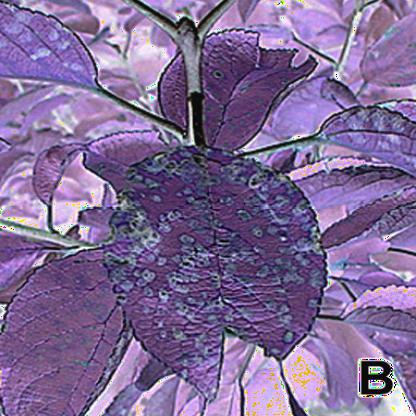apple scab leaf: (100, 132, 341, 400)
